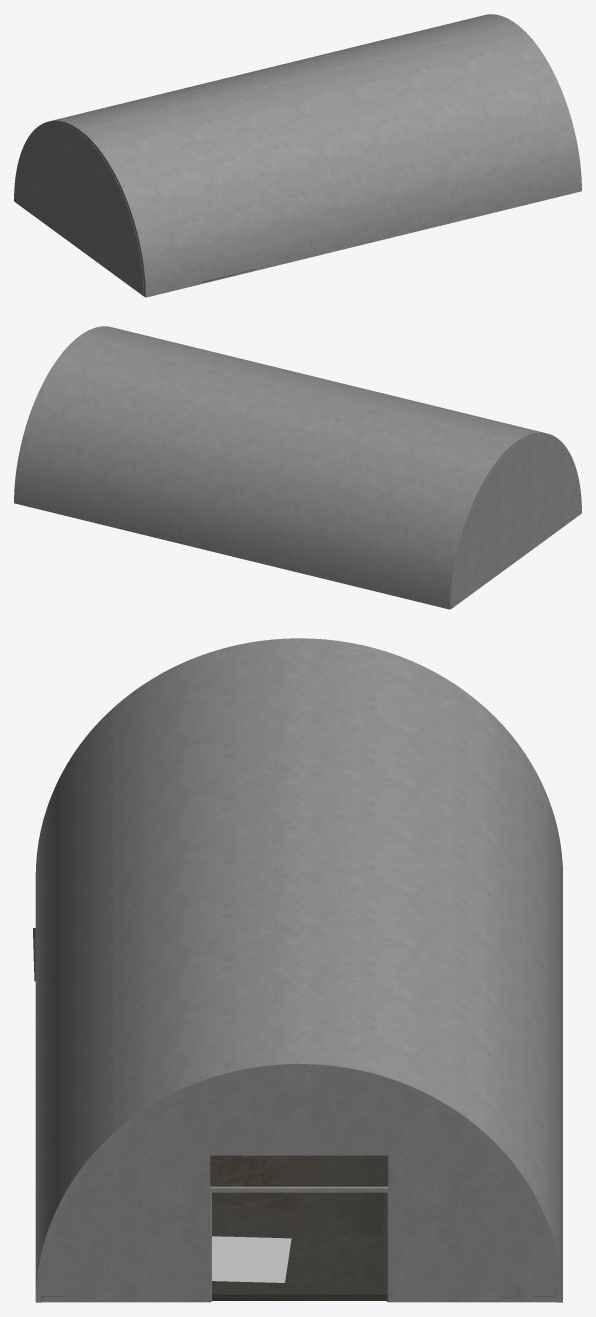
The model's file is Zernochranilishe.fbx.
3 views of the same model, one above another, from view 1: azimuth 30°, elevation 25°; view 2: azimuth 150°, elevation 25°; view 3: azimuth 270°, elevation 25° (orthographic). The views are drawn at different scales.
Parts seen in each view (by area): view 1: Cylinder.001, Cylinder.002, Cylinder.032, Cylinder.030, Cylinder.028, Cylinder.006, Cylinder.004, Cylinder.008, Cylinder.027, Cylinder.011, Cylinder.031, Cylinder.003 (+14 smaller); view 2: Cylinder.002, Cylinder.001, Cylinder.034, Cylinder.036, Cylinder.038, Cylinder.044, Cylinder.042, Cylinder.046, Cylinder.048, Cylinder.040, Cylinder.033, Cylinder.045 (+14 smaller); view 3: Cylinder.014, Cylinder.013, Cube.018, Cylinder.010, Cylinder.047, Cylinder.007, Cylinder.041, Cylinder.029, Cylinder.012, Cylinder.031, Cylinder.035, Cylinder.039 (+26 smaller).
Part boxes in pixels (bbox=[...]): Cylinder.001: bbox=[79, 133, 143, 296]; Cylinder.002: bbox=[15, 124, 79, 248]; Cylinder.032: bbox=[125, 186, 200, 297]; Cylinder.030: bbox=[181, 172, 254, 284]; Cylinder.028: bbox=[235, 159, 309, 270]; Cylinder.006: bbox=[399, 119, 472, 230]; Cylinder.004: bbox=[453, 106, 527, 217]; Cylinder.008: bbox=[344, 132, 418, 244]; Cylinder.027: bbox=[508, 93, 581, 204]; Cylinder.011: bbox=[290, 146, 363, 257]; Cylinder.031: bbox=[80, 117, 180, 199]; Cylinder.003: bbox=[407, 37, 507, 118]; Cylinder.002: bbox=[452, 445, 516, 608]; Cylinder.001: bbox=[516, 436, 580, 560]; Cylinder.034: bbox=[395, 498, 470, 609]; Cylinder.036: bbox=[341, 484, 414, 596]; Cylinder.038: bbox=[286, 471, 360, 582]; Cylinder.044: bbox=[123, 431, 196, 542]; Cylinder.042: bbox=[177, 444, 251, 556]; Cylinder.046: bbox=[68, 418, 142, 529]; Cylinder.048: bbox=[14, 405, 87, 516]; Cylinder.040: bbox=[232, 458, 305, 569]; Cylinder.033: bbox=[415, 429, 515, 511]; Cylinder.045: bbox=[88, 349, 188, 430]; Cylinder.014: bbox=[299, 1070, 555, 1302]; Cylinder.013: bbox=[43, 1070, 299, 1302]; Cube.018: bbox=[42, 1155, 555, 1298]; Cylinder.010: bbox=[113, 1010, 299, 1137]; Cylinder.047: bbox=[299, 1010, 485, 1137]; Cylinder.007: bbox=[113, 851, 299, 973]; Cylinder.041: bbox=[299, 851, 485, 973]; Cylinder.029: bbox=[113, 691, 299, 813]; Cylinder.012: bbox=[113, 744, 299, 867]; Cylinder.031: bbox=[113, 638, 299, 760]; Cylinder.035: bbox=[299, 691, 485, 814]; Cylinder.039: bbox=[299, 798, 485, 920].
Size of the model in its own units: 3362 by 879 by 1769.
